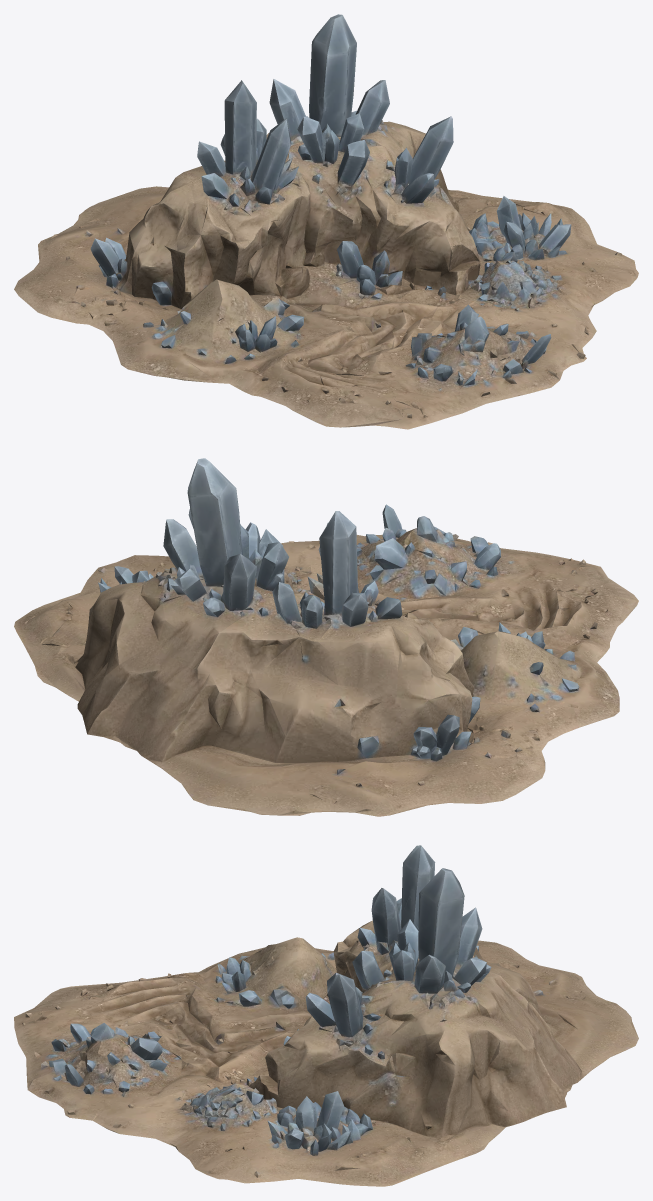
The model's file is node.material_source.glb.
The picture shows the model from 3 angles, top to bottom: view 1: azimuth 30°, elevation 25°; view 2: azimuth 150°, elevation 25°; view 3: azimuth 270°, elevation 25°; orthographic projection. The views are drawn at different scales.
Parts seen in each view (by area): view 1: body; view 2: body; view 3: body.
Part boxes in pixels (x1,y1,x2,y2): body: (14, 14, 638, 429); body: (14, 458, 638, 816); body: (14, 845, 638, 1186).
Bounding box in the file's own units: 1.86 × 0.7719 × 1.99.
1 material, 1 textured.
